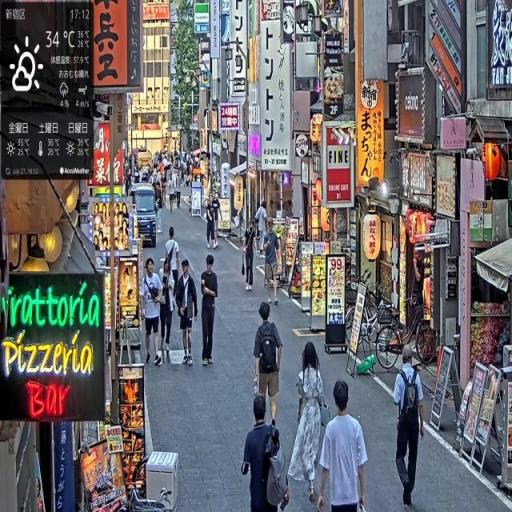person: (317, 378, 370, 512), (292, 341, 330, 504), (241, 394, 288, 512), (394, 344, 427, 512), (254, 301, 284, 434), (141, 258, 164, 368), (177, 260, 199, 367), (201, 255, 220, 369), (159, 259, 178, 363), (264, 218, 283, 307), (164, 226, 184, 310), (243, 218, 257, 295)
